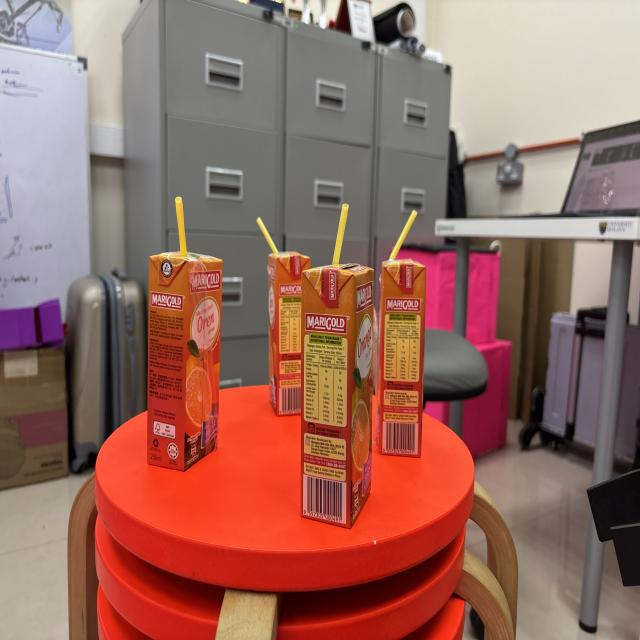drink_carton: (295, 193, 382, 537), (140, 185, 226, 477), (372, 203, 434, 460), (248, 197, 314, 424)
